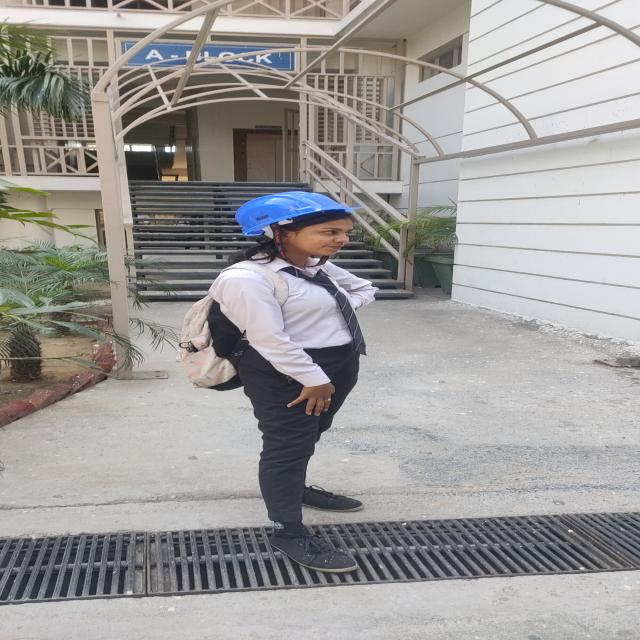safe: (181, 192, 374, 570)
